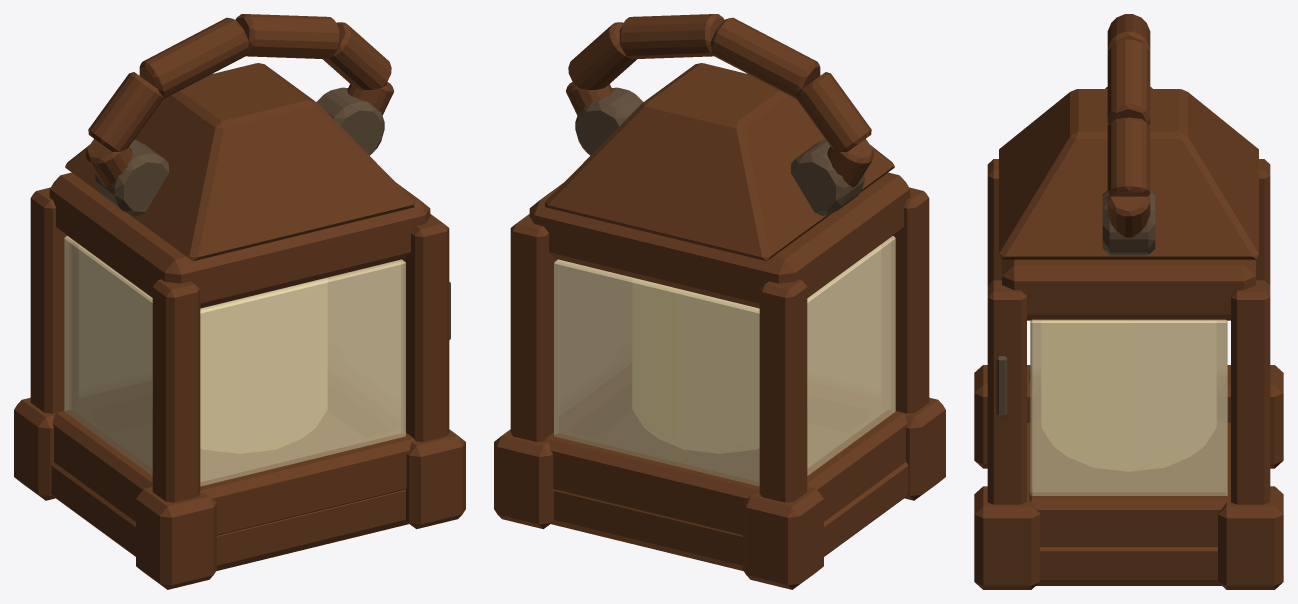
File: WoodenHandLantern.glb
3 views of the same model, side by side, from view 1: azimuth 30°, elevation 25°; view 2: azimuth 150°, elevation 25°; view 3: azimuth 270°, elevation 25° (orthographic).
Visible parts, largest first — view 1: WoodenHandLantern_Frame, WoodenHandLantern_Glass, WoodenHandLantern_Handle, WoodenHandLantern_Metal; view 2: WoodenHandLantern_Frame, WoodenHandLantern_Glass, WoodenHandLantern_Handle, WoodenHandLantern_Metal; view 3: WoodenHandLantern_Frame, WoodenHandLantern_Glass, WoodenHandLantern_Handle, WoodenHandLantern_Metal.
Part boxes in pixels (box(x1,y1,x2,y2)): WoodenHandLantern_Frame: box(14, 63, 465, 589); WoodenHandLantern_Glass: box(64, 236, 405, 486); WoodenHandLantern_Handle: box(85, 14, 393, 187); WoodenHandLantern_Metal: box(95, 87, 450, 339); WoodenHandLantern_Frame: box(494, 63, 945, 589); WoodenHandLantern_Glass: box(554, 236, 895, 486); WoodenHandLantern_Handle: box(566, 14, 874, 187); WoodenHandLantern_Metal: box(575, 87, 864, 215); WoodenHandLantern_Frame: box(974, 89, 1283, 589); WoodenHandLantern_Glass: box(1030, 319, 1227, 496); WoodenHandLantern_Handle: box(1107, 14, 1150, 237); WoodenHandLantern_Metal: box(996, 87, 1155, 416).
Size of the model in its own units: 0.403 by 0.6117 by 0.353.
